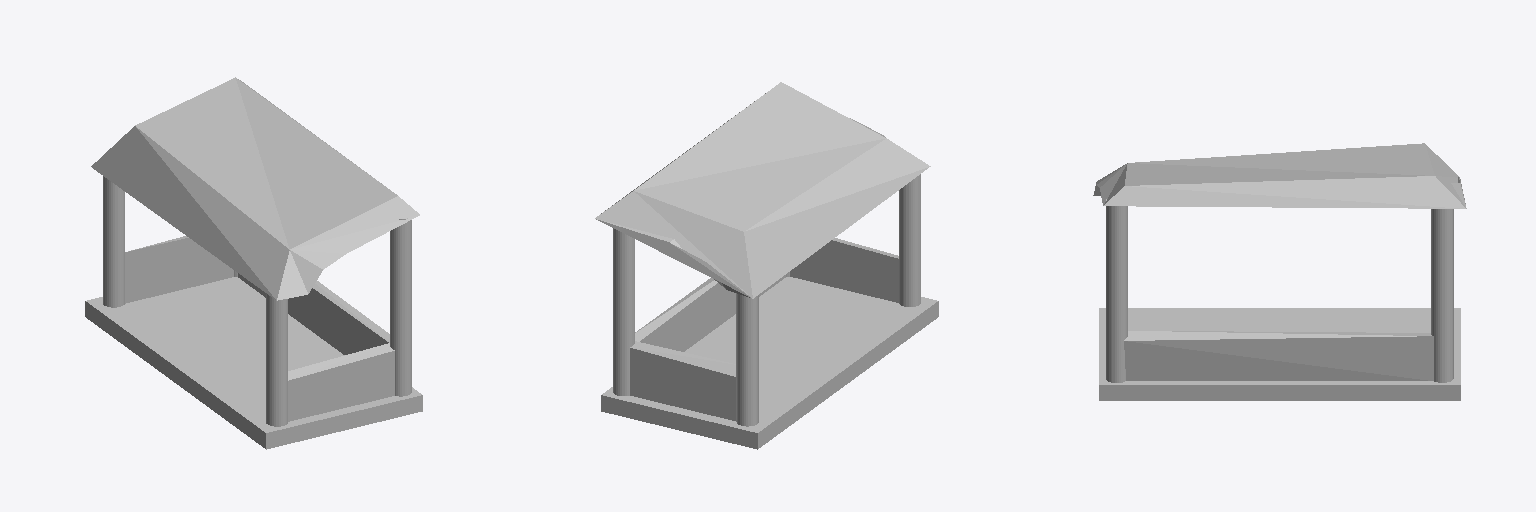
File: Market Stall.obj
The picture shows the model from 3 angles: view 1: azimuth 30°, elevation 25°; view 2: azimuth 150°, elevation 25°; view 3: azimuth 270°, elevation 25°; orthographic projection.
Visible parts, largest first — view 1: Cube.001, Cube, Cube.004, Cube.003, Cube.002, Cylinder_Cylinder.001, Cylinder.003_Cylinder.004, Cylinder.002_Cylinder.003; view 2: Cube.001, Cube, Cube.003, Cube.004, Cube.002, Cylinder.001_Cylinder.002, Cylinder.002_Cylinder.003, Cylinder.003_Cylinder.004; view 3: Cube.001, Cube, Cube.002, Cylinder.001_Cylinder.002, Cylinder_Cylinder.001.
Part boxes in pixels (x1,y1,x2,y2): Cube.001: (91,77,419,300); Cube: (85,277,422,449); Cube.004: (288,343,394,421); Cube.003: (125,236,233,303); Cube.002: (238,273,389,354); Cylinder_Cylinder.001: (390,218,411,396); Cylinder.003_Cylinder.004: (266,293,287,426); Cylinder.002_Cylinder.003: (103,176,124,307); Cube.001: (595,82,930,298); Cube: (601,277,938,449); Cube.003: (630,341,735,420); Cube.004: (790,238,898,302); Cube.002: (635,275,785,351); Cylinder.001_Cylinder.002: (613,228,634,395); Cylinder.002_Cylinder.003: (736,293,758,426); Cylinder.003_Cylinder.004: (899,174,920,306); Cube.001: (1093,143,1466,208); Cube: (1099,308,1460,400); Cube.002: (1124,331,1433,380); Cylinder.001_Cylinder.002: (1431,209,1453,382); Cylinder_Cylinder.001: (1106,199,1127,382).
Bounding box in the file's own units: 4.1 × 5.27 × 8.26.